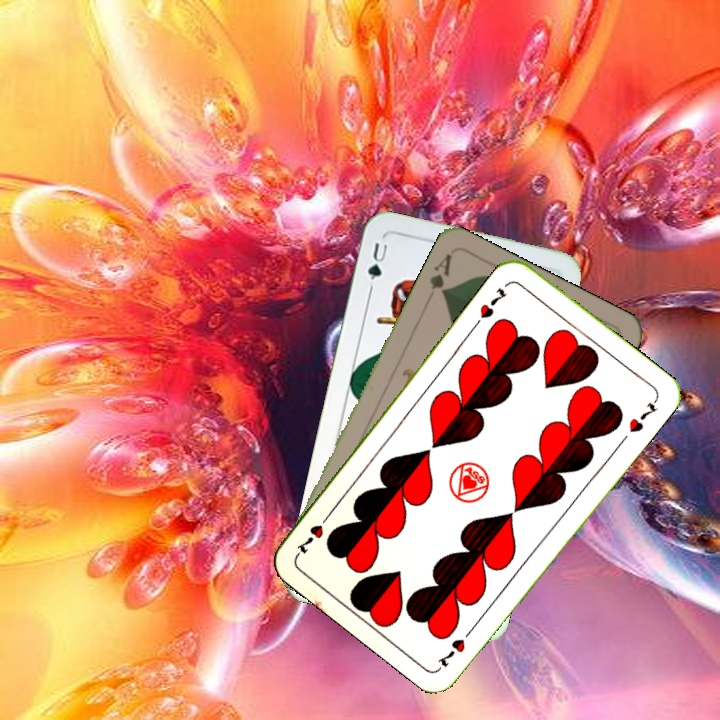GA: (425, 250, 455, 299)
GU: (363, 238, 392, 283)
H7: (432, 622, 478, 671), (475, 284, 510, 321)
